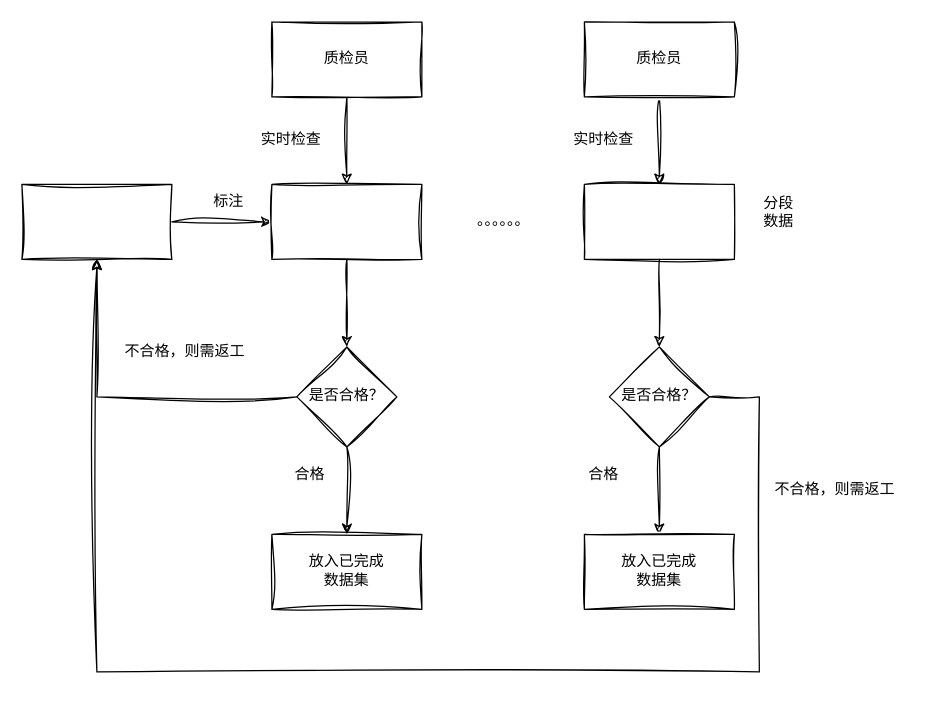
Some shapes in this 931 by 704 pixel diagram are drawn without their labels. Here are the shapes that lost their labels. From the top down, the box of each, then its label:
(21, 183, 172, 259): 标注员
(271, 183, 422, 259): 数据A
(583, 183, 734, 259): 数据b
